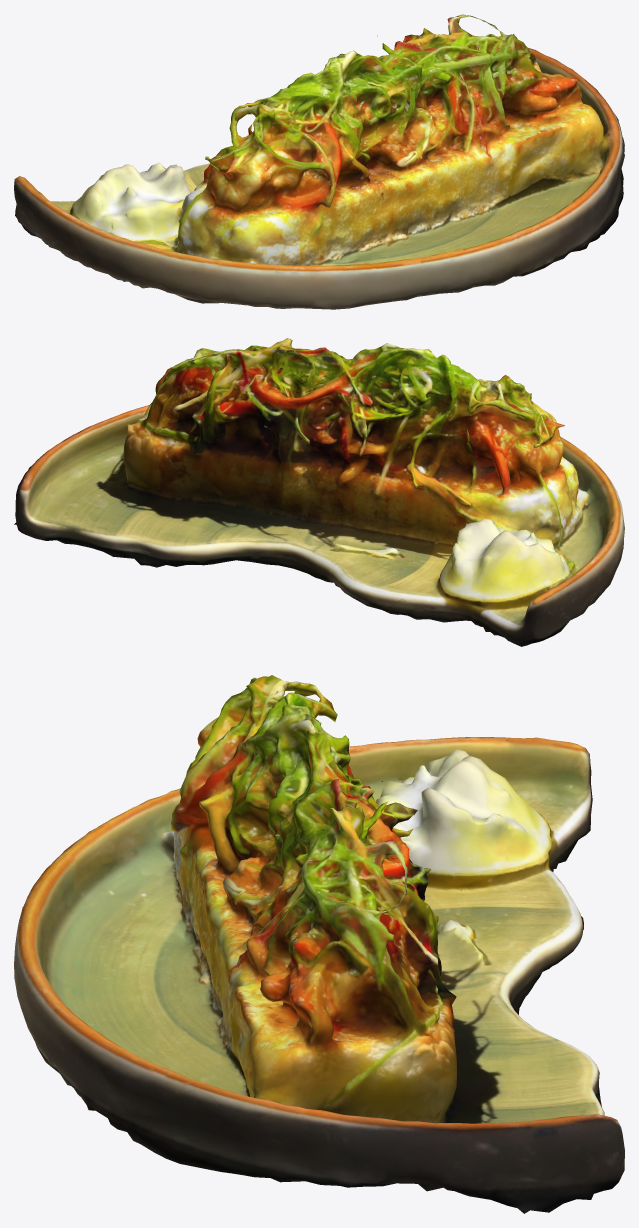
The picture shows the model from 3 angles, top to bottom: view 1: azimuth 30°, elevation 25°; view 2: azimuth 150°, elevation 25°; view 3: azimuth 270°, elevation 25°; orthographic projection. The views are drawn at different scales.
Visible parts, largest first — view 1: Mesh; view 2: Mesh; view 3: Mesh.
Part boxes in pixels (bbox=[...]): Mesh: bbox=[14, 14, 624, 309]; Mesh: bbox=[14, 338, 624, 646]; Mesh: bbox=[14, 675, 624, 1213].
Size of the model in its own units: 0.2761 by 0.0921 by 0.1795.
1 material, 1 textured.
